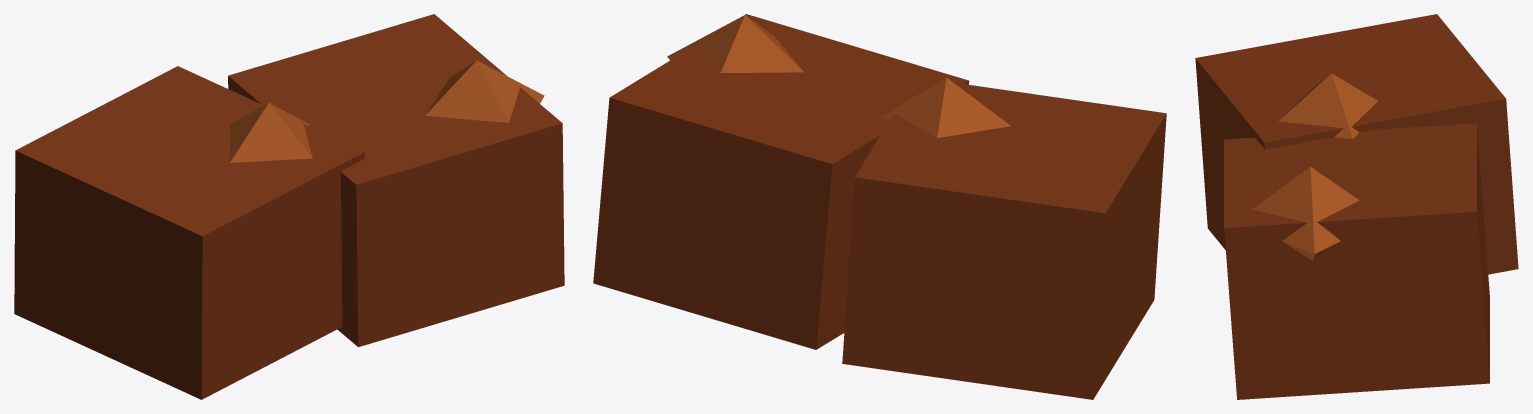
The model's file is pile-soil-2.obj.
3 views of the same model, side by side, from view 1: azimuth 30°, elevation 25°; view 2: azimuth 150°, elevation 25°; view 3: azimuth 270°, elevation 25° (orthographic). The views are drawn at different scales.
Visible parts, largest first — view 1: pile-soil-2; view 2: pile-soil-2; view 3: pile-soil-2.
Part boxes in pixels (x1,y1,x2,y2): pile-soil-2: (14, 14, 564, 399); pile-soil-2: (593, 14, 1166, 399); pile-soil-2: (1195, 14, 1518, 399).
Size of the model in its own units: 0.6336 by 0.2874 by 0.3827.
1 material, 1 textured.
